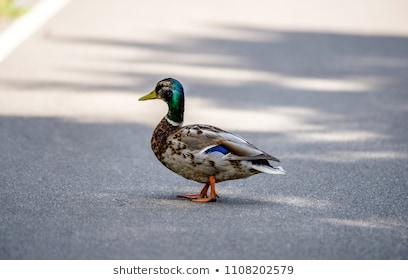duck: (115, 61, 305, 222)
